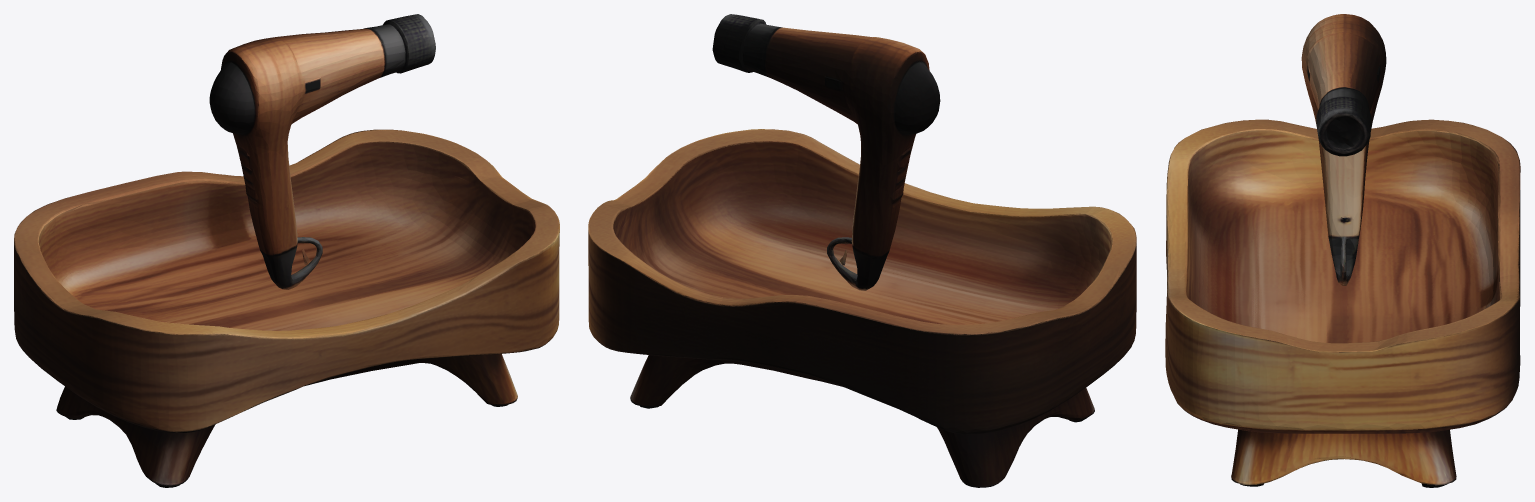
Rendered from wooden-hair-dryer-stand-3d.jpeg.glb.
3 views of the same model, side by side, from view 1: azimuth 30°, elevation 25°; view 2: azimuth 150°, elevation 25°; view 3: azimuth 270°, elevation 25° (orthographic).
Parts seen in each view (by area): view 1: world; view 2: world; view 3: world.
Boxes of the visible parts, x1,y1,x2,y2 form: world: (14, 14, 559, 487); world: (588, 14, 1136, 487); world: (1165, 14, 1520, 487).
Bounding box in the file's own units: 1 × 0.7661 × 0.6692.
1 material, 1 textured.
